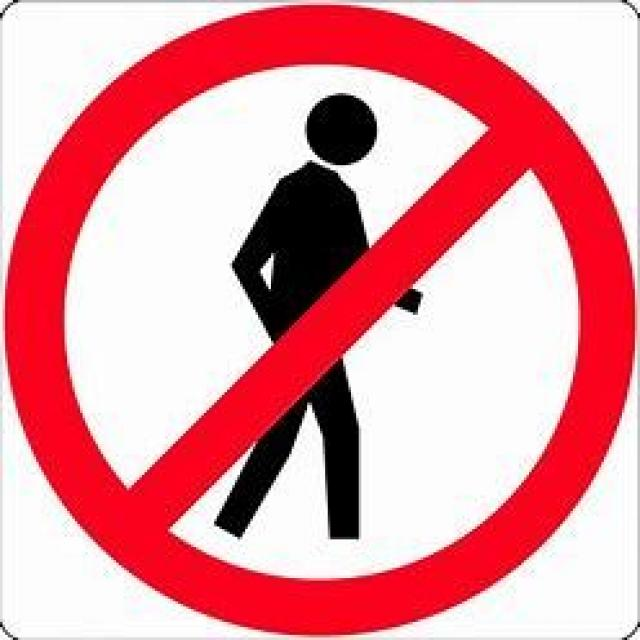PEDESTRIAN_PROHIBITED: (5, 2, 638, 635)
